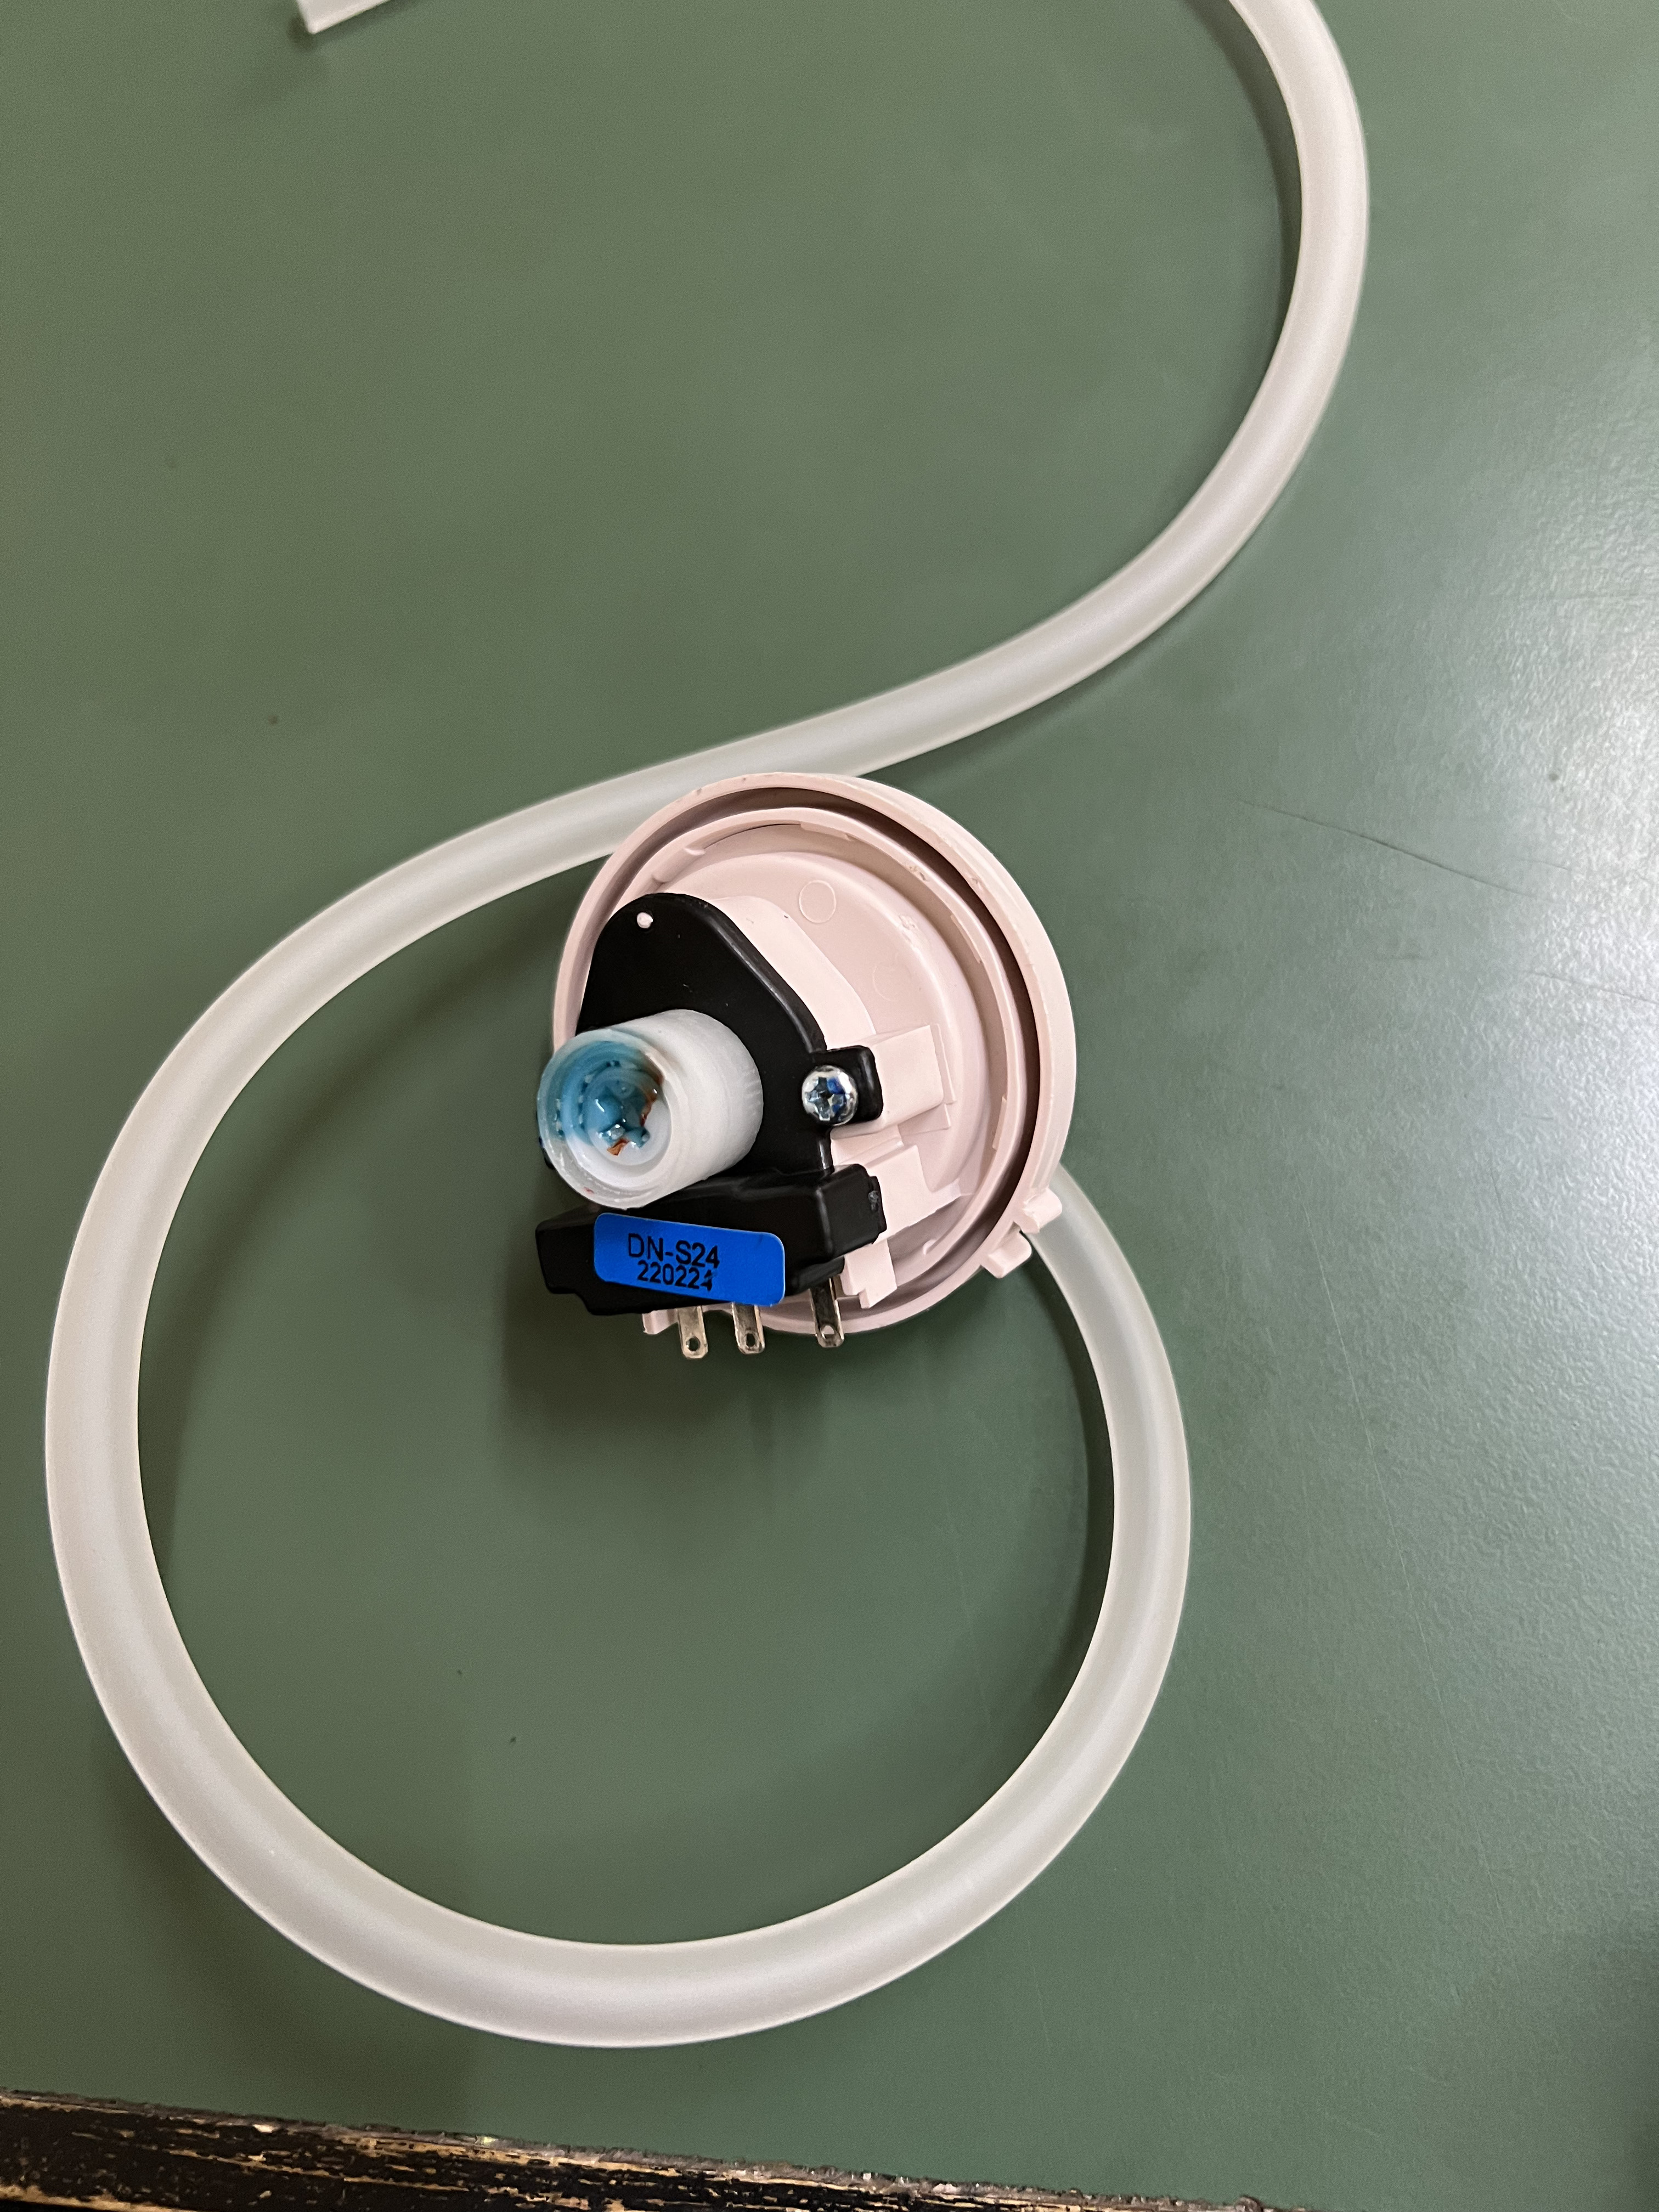pressure_sensor: (19, 732, 1337, 2080)
